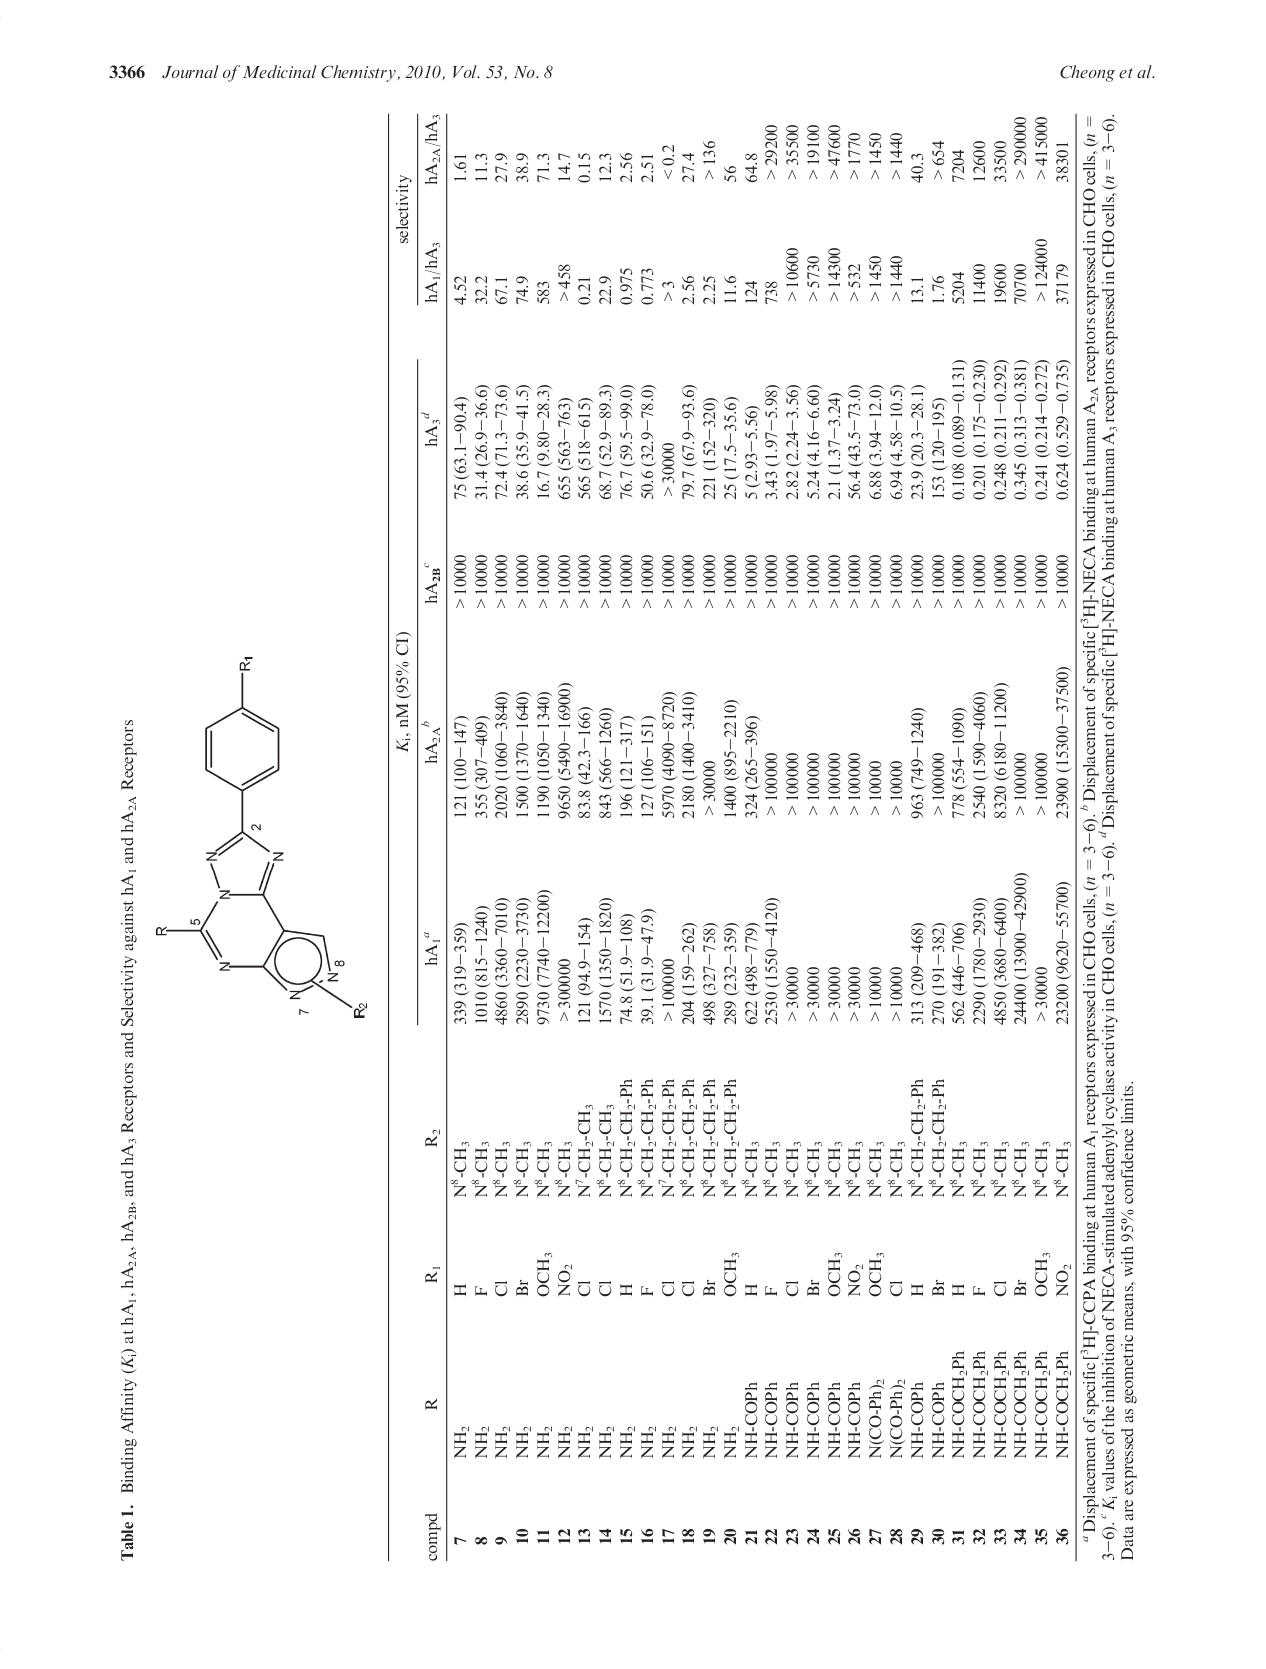exist_molecular: (150, 648, 376, 1025)
